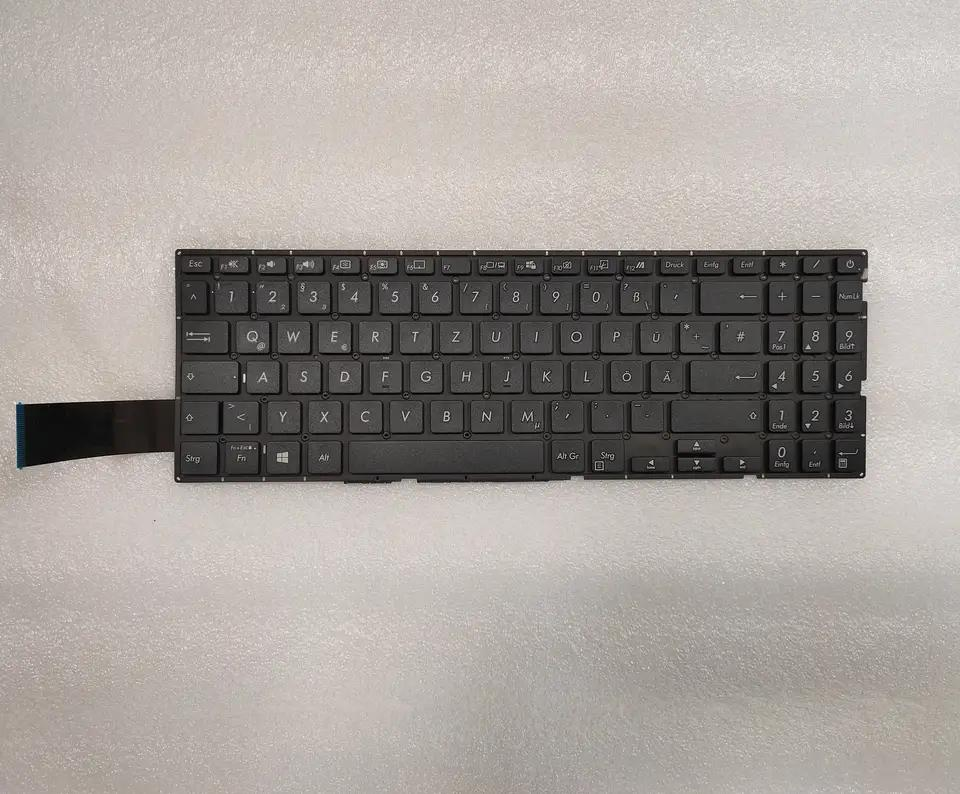0: (577, 278, 614, 313)
1: (213, 279, 248, 313)
2: (254, 278, 290, 313)
3: (294, 277, 331, 313)
4: (336, 278, 371, 312)
5: (376, 279, 412, 313)
6: (416, 278, 452, 313)
7: (457, 278, 492, 312)
8: (497, 278, 533, 313)
9: (537, 279, 573, 313)
a: (245, 360, 280, 392)
accent: (658, 278, 692, 312)
ae: (649, 357, 684, 392)
alt-left: (305, 438, 342, 473)
altgr-right: (549, 436, 585, 471)
b: (428, 397, 464, 432)
c: (347, 397, 383, 432)
caret: (179, 277, 207, 312)
comma: (549, 397, 584, 431)
d: (327, 357, 362, 392)
del: (699, 278, 762, 313)
e: (316, 317, 351, 352)
enter: (688, 357, 763, 391)
f: (367, 357, 402, 392)
g: (407, 357, 443, 391)
h: (448, 357, 483, 392)
hash: (718, 318, 761, 353)
i: (518, 318, 553, 352)
j: (488, 357, 523, 392)
k: (530, 359, 564, 391)
keyboard: (171, 244, 875, 488)
l: (568, 357, 603, 392)
less: (222, 398, 259, 433)
m: (508, 396, 544, 432)
minus: (628, 398, 663, 430)
n: (468, 397, 504, 432)
o: (558, 318, 593, 352)
oe: (608, 357, 644, 392)
p: (599, 318, 633, 352)
plus: (678, 318, 714, 352)
point: (590, 398, 624, 430)
q: (234, 317, 270, 352)
r: (357, 318, 392, 352)
s: (285, 357, 321, 393)
shift-left: (178, 397, 217, 434)
shift-lock: (179, 359, 239, 393)
shift-right: (669, 397, 762, 430)
space: (346, 438, 544, 473)
ss: (618, 279, 653, 313)
strg-left: (176, 439, 218, 476)
strg-right: (589, 436, 625, 472)
t: (398, 318, 432, 352)
tab: (180, 317, 228, 353)
u: (478, 318, 513, 353)
ue: (638, 318, 673, 353)
v: (388, 397, 424, 432)
w: (275, 317, 311, 352)
x: (307, 398, 342, 432)
y: (265, 398, 301, 432)
z: (438, 317, 473, 352)
